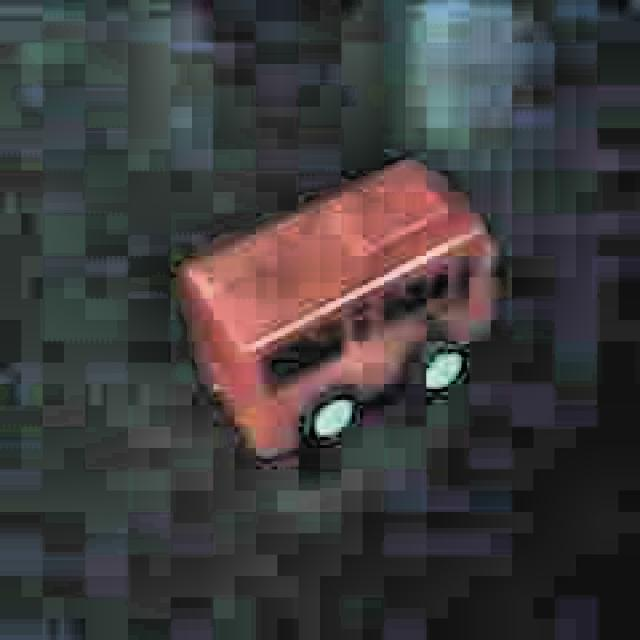bus: (172, 148, 503, 474)
